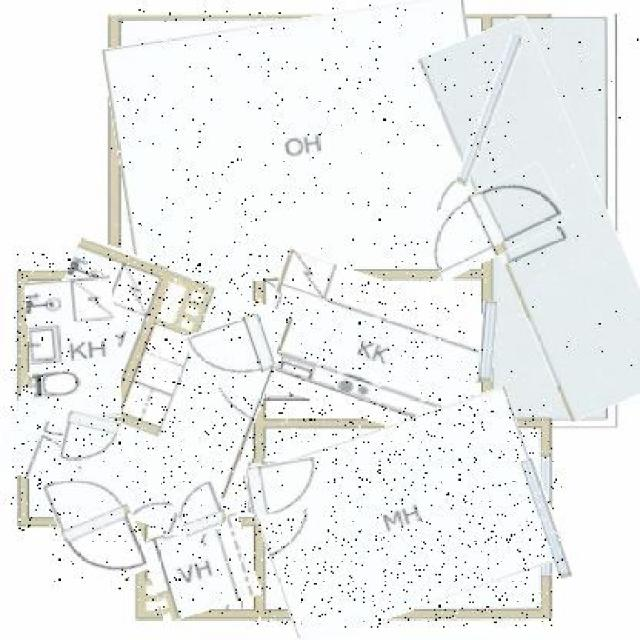door: (420, 174, 563, 268), (52, 463, 143, 589), (189, 317, 277, 386), (249, 458, 329, 514), (60, 412, 117, 470), (173, 478, 224, 536)
window: (469, 32, 509, 190), (531, 457, 563, 580), (478, 300, 496, 382)
zone: (111, 5, 491, 283), (452, 17, 640, 418), (11, 252, 275, 531), (254, 408, 552, 629), (254, 265, 488, 432), (28, 277, 120, 420), (147, 518, 256, 616)
